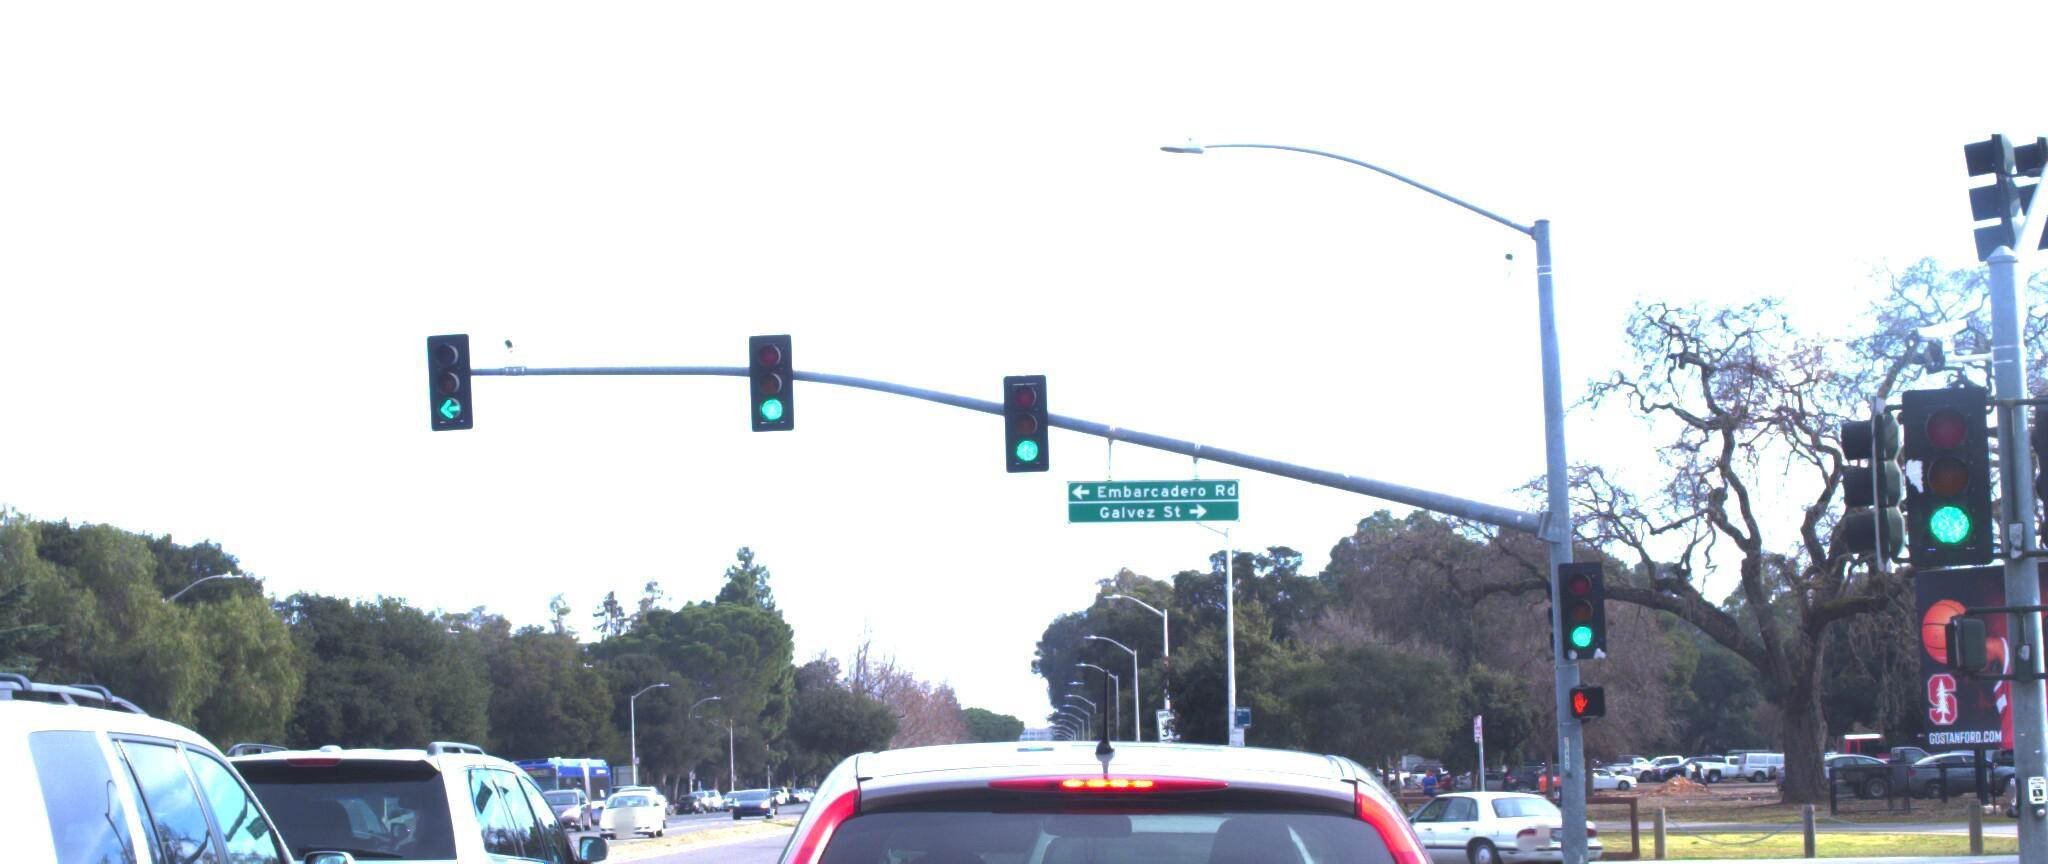car: (589, 660, 1677, 864), (0, 628, 428, 864), (84, 707, 632, 864), (1322, 784, 1591, 864), (2000, 753, 2048, 864)
